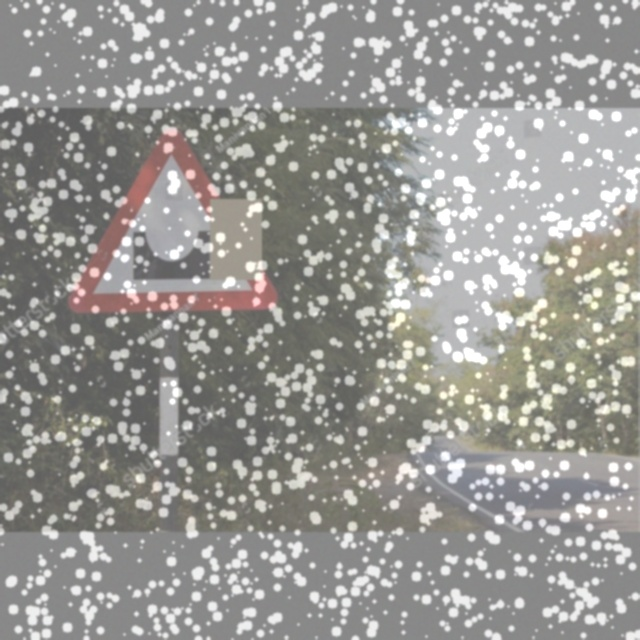Dangerous_Dip: (67, 131, 274, 311)
